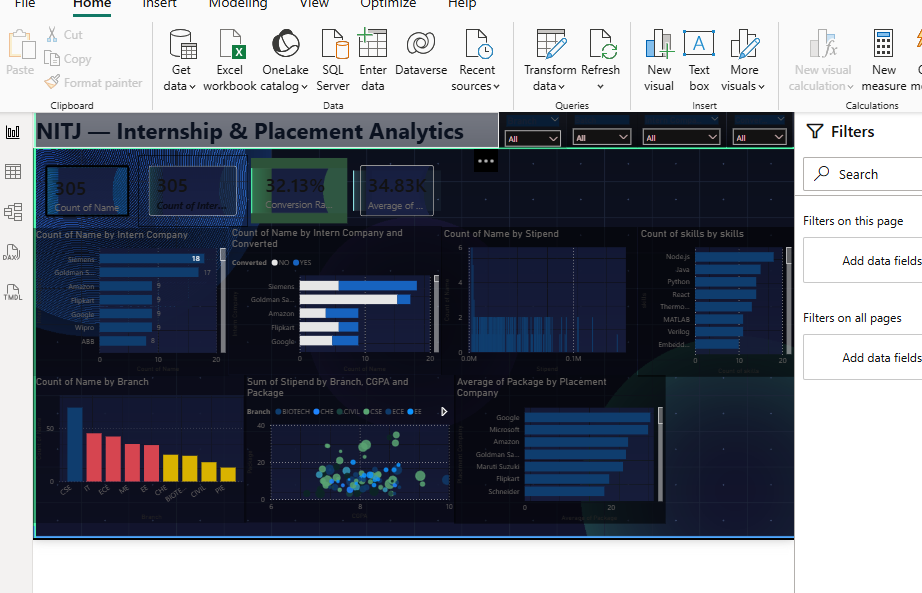

Layout of this report page (visuals, bound fields, positions):
{"tool":"powerbi","page":{"name":"Page 1","canvas":[1280,720],"ordinal":0},"visuals":[{"type":"textbox","box":[0,0,783.8,60.6],"z":0},{"type":"cardVisual","fields":{"Data":["CountNonNull(visible_interns (1).Name)"]},"box":[3.8,72.5,176.2,121.2],"z":1000},{"type":"cardVisual","fields":{"Data":["CountNonNull(visible_interns (1).Intern Company)"]},"box":[176.2,72.6,184.8,120.9],"z":2000},{"type":"cardVisual","fields":{"Data":["visible_interns (1).Conversion Rate"]},"box":[361,72.6,172.7,120.9],"z":3000},{"type":"cardVisual","fields":{"Data":["Avg(visible_interns (1).Stipend)"]},"box":[533.8,72.6,158.9,120.9],"z":4000},{"type":"clusteredBarChart","fields":{"Category":["visible_interns (1).Intern Company"],"Y":["CountNonNull(visible_interns (1).Name)"]},"box":[0,195.4,328.9,247.7],"z":5000},{"type":"barChart","fields":{"Category":["visible_interns (1).Intern Company"],"Y":["CountNonNull(visible_interns (1).Name)"],"Series":["visible_interns (1).Converted"]},"box":[328.9,191.3,357.8,250.5],"z":6000},{"type":"clusteredColumnChart","fields":{"Category":["visible_interns (1).Branch"],"Y":["CountNonNull(visible_interns (1).Name)"]},"box":[0,441.8,359.2,249.1],"z":7000},{"type":"scatterChart","fields":{"X":["visible_interns (1).CGPA"],"Y":["visible_interns (1).Package"],"Size":["Sum(visible_interns (1).Stipend)"],"Series":["visible_interns (1).Branch"]},"box":[355.1,443.2,356.5,247.7],"z":8000},{"type":"clusteredColumnChart","fields":{"Category":["visible_interns (1).Stipend"],"Y":["CountNonNull(visible_interns (1).Name)"]},"box":[686.8,192.7,330.3,249.1],"z":9000},{"type":"clusteredBarChart","fields":{"Y":["Avg(visible_interns (1).Package)"],"Category":["visible_interns (1).Placement Company"]},"box":[707.4,443.2,356.5,250.5],"z":10000},{"type":"clusteredBarChart","fields":{"Y":["CountNonNull(visible_interns (1).skills)"],"Category":["visible_interns (1).skills"]},"box":[1017.1,194.1,262.9,251.9],"z":11000},{"type":"slicer","fields":{"Values":["visible_interns (1).Branch"]},"box":[783.8,0,114.4,60.6],"z":12000},{"type":"slicer","fields":{"Values":["visible_interns (1).Batch"]},"box":[898.9,0,117.8,60],"z":13000},{"type":"slicer","fields":{"Values":["visible_interns (1).Intern Company"]},"box":[1016.7,0,150,60],"z":14000},{"type":"slicer","fields":{"Values":["visible_interns (1).Converted"]},"box":[1166.7,0,110,60],"z":15000}]}

Visuals, with their boxes on the page's 1280x720 design canvas (x1, y1, x2, y2). These are canvas units, not pixel positions in the 922x593 screenshot, which may show the page scaled, cropped or inside an application window:
textbox: bbox(0, 0, 784, 61)
cardVisual - CountNonNull(visible_interns (1).Name): bbox(4, 72, 180, 194)
cardVisual - CountNonNull(visible_interns (1).Intern Company): bbox(176, 73, 361, 194)
cardVisual - visible_interns (1).Conversion Rate: bbox(361, 73, 534, 194)
cardVisual - Avg(visible_interns (1).Stipend): bbox(534, 73, 693, 194)
clusteredBarChart - visible_interns (1).Intern Company x CountNonNull(visible_interns (1).Name): bbox(0, 195, 329, 443)
barChart - visible_interns (1).Intern Company x CountNonNull(visible_interns (1).Name): bbox(329, 191, 687, 442)
clusteredColumnChart - visible_interns (1).Branch x CountNonNull(visible_interns (1).Name): bbox(0, 442, 359, 691)
scatterChart - visible_interns (1).CGPA x visible_interns (1).Package: bbox(355, 443, 712, 691)
clusteredColumnChart - visible_interns (1).Stipend x CountNonNull(visible_interns (1).Name): bbox(687, 193, 1017, 442)
clusteredBarChart - Avg(visible_interns (1).Package) x visible_interns (1).Placement Company: bbox(707, 443, 1064, 694)
clusteredBarChart - CountNonNull(visible_interns (1).skills) x visible_interns (1).skills: bbox(1017, 194, 1280, 446)
slicer - visible_interns (1).Branch: bbox(784, 0, 898, 61)
slicer - visible_interns (1).Batch: bbox(899, 0, 1017, 60)
slicer - visible_interns (1).Intern Company: bbox(1017, 0, 1167, 60)
slicer - visible_interns (1).Converted: bbox(1167, 0, 1277, 60)
